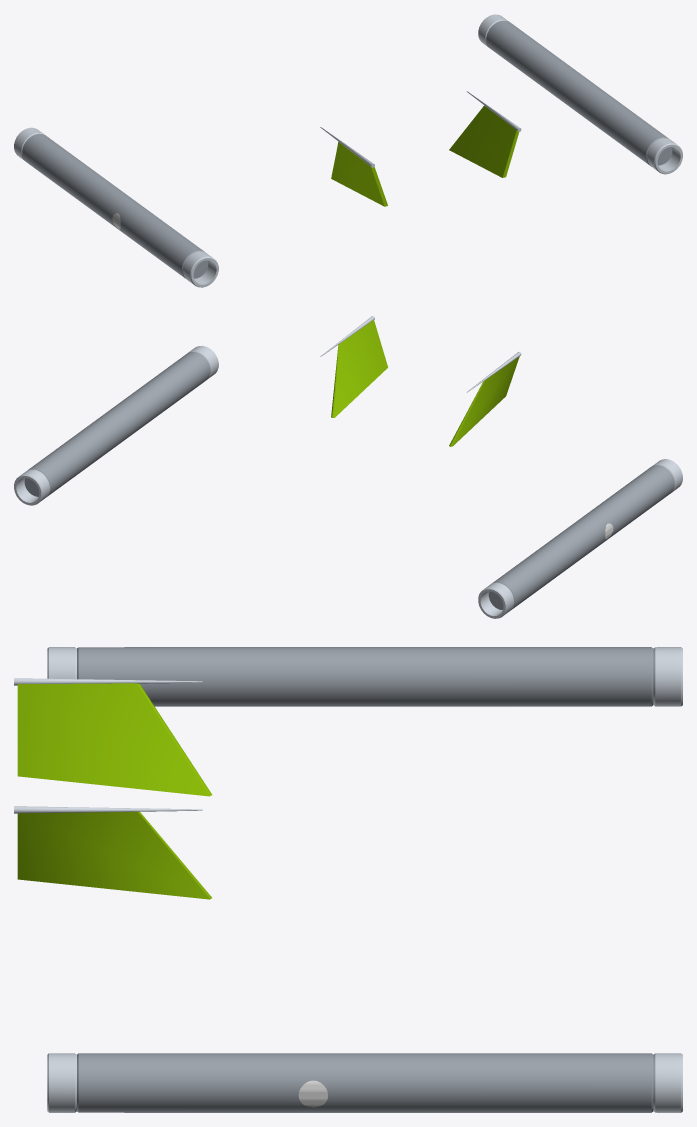
3 views of the same model, one above another, from view 1: azimuth 30°, elevation 25°; view 2: azimuth 150°, elevation 25°; view 3: azimuth 270°, elevation 25° (orthographic). The views are drawn at different scales.
Visible parts, largest first — view 1: lod3_mk3_part_2, lod3_mk3_part_1; view 2: lod3_mk3_part_2, lod3_mk3_part_1; view 3: lod3_mk3_part_2, lod3_mk3_part_1.
Boxes of the visible parts, box(x1,y1,x2,y2) form: lod3_mk3_part_2: box(22, 20, 668, 278); lod3_mk3_part_1: box(14, 14, 682, 287); lod3_mk3_part_2: box(27, 352, 674, 611); lod3_mk3_part_1: box(14, 316, 682, 618); lod3_mk3_part_2: box(77, 647, 653, 1112); lod3_mk3_part_1: box(14, 647, 682, 1112).
Size of the model in its own units: 27.61 by 18.1 by 4.9.
